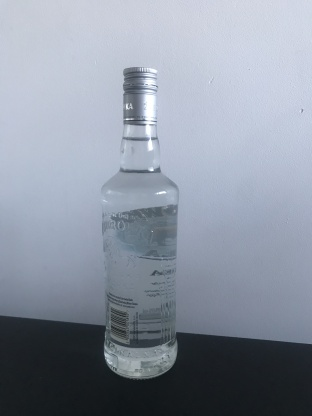nakretka: (121, 65, 159, 126)
